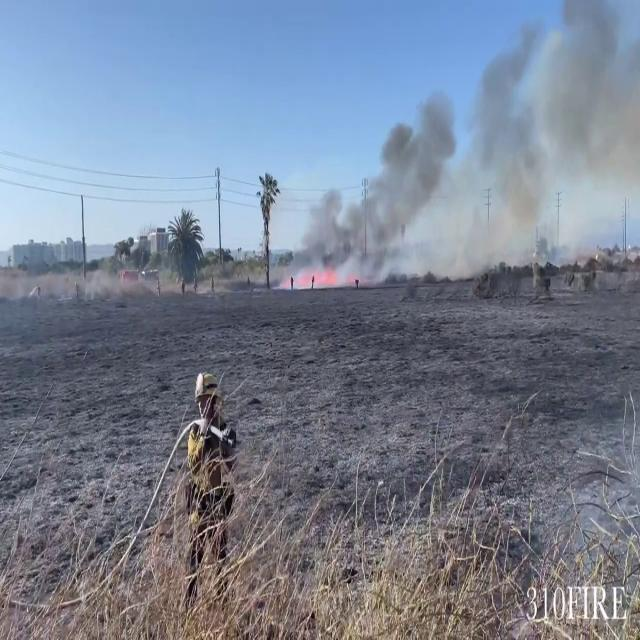Smoke: (288, 17, 626, 293)
